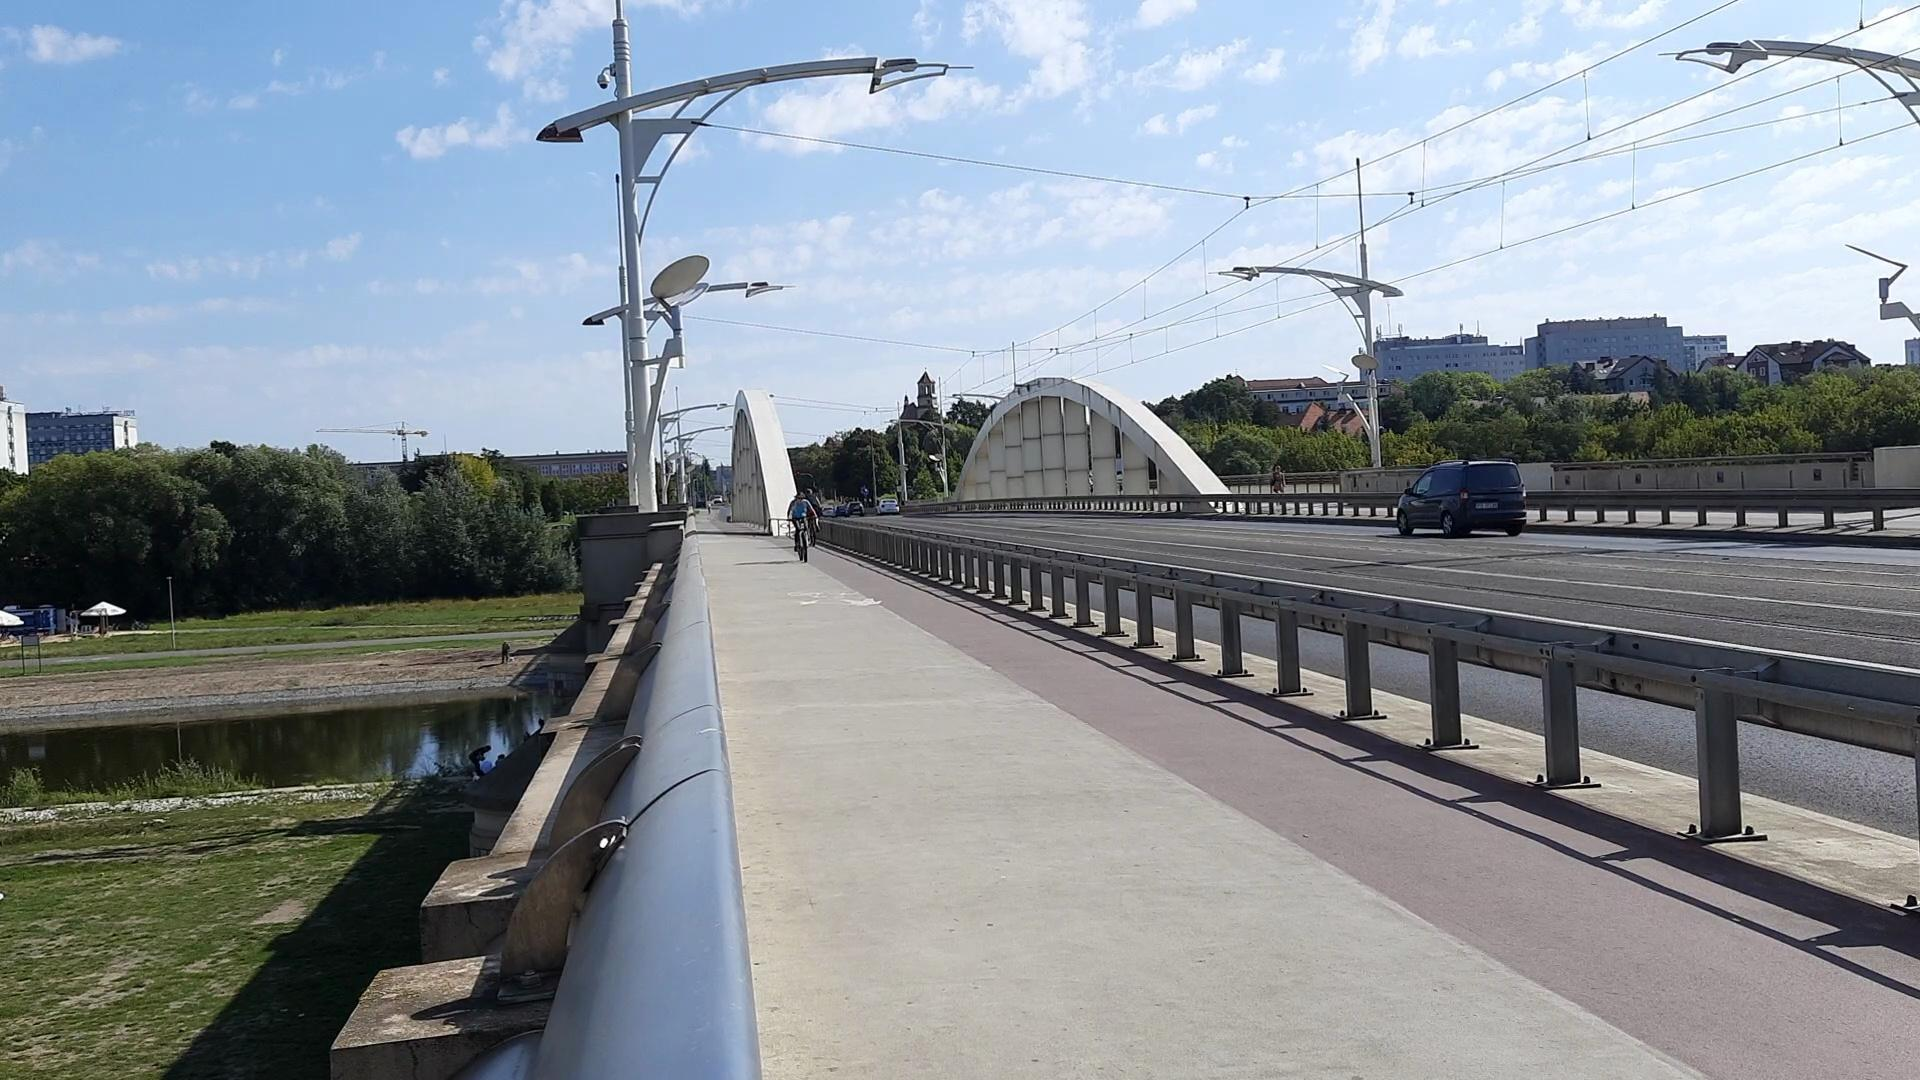car: (1386, 458, 1528, 538)
cyclist: (786, 489, 818, 571)
